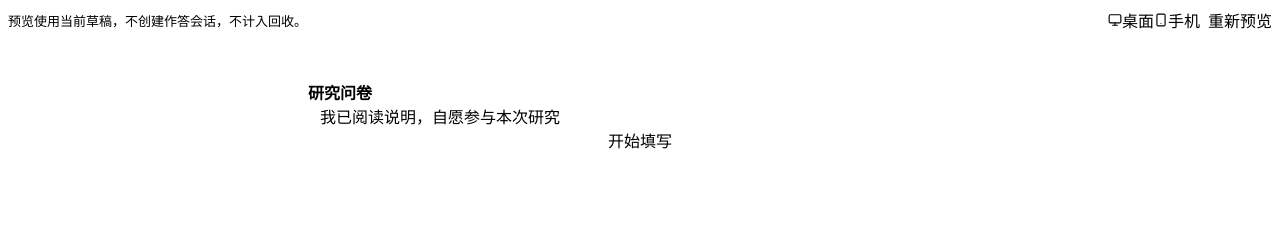
SurveyPreviewOverlay（issue #217） › 「重新预览」重置到 consent
This screenshot has width=1280, height=252.
Step 1. Click the checkbox labelled "我已阅读说明，自愿参与本次研究" → (440, 118), box [320, 109, 560, 126]
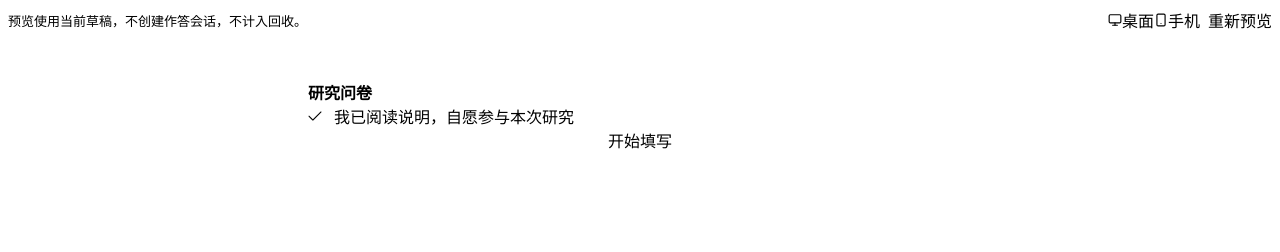
Step 2. Click the button "开始填写" → (640, 140), box [308, 128, 972, 152]
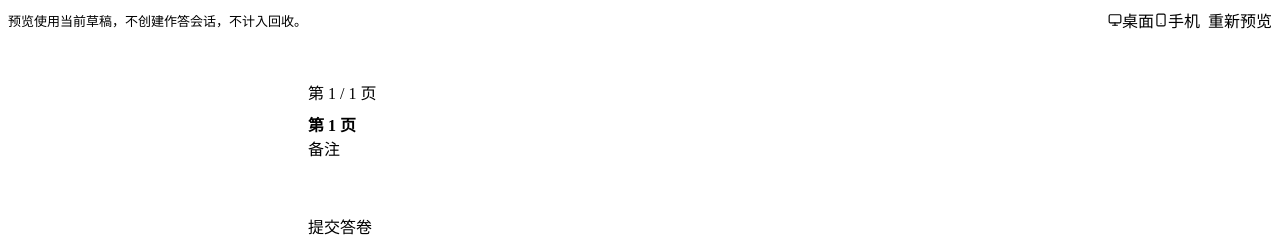
Step 3. Click the button "重新预览" → (1240, 20), box [1208, 8, 1272, 32]
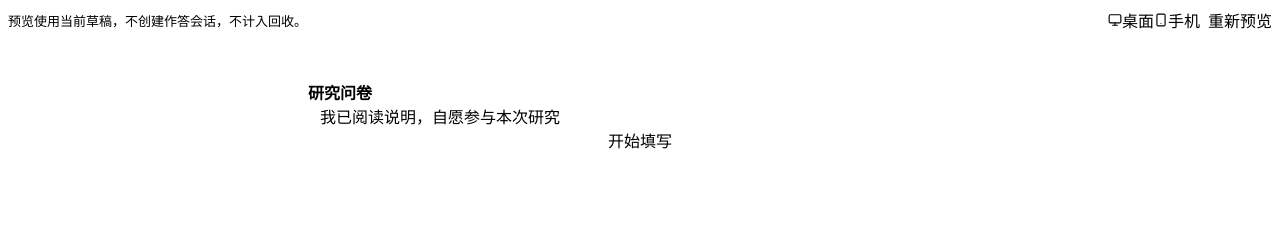
Expected: the button "开始填写" is disabled, [308, 128, 972, 152]
